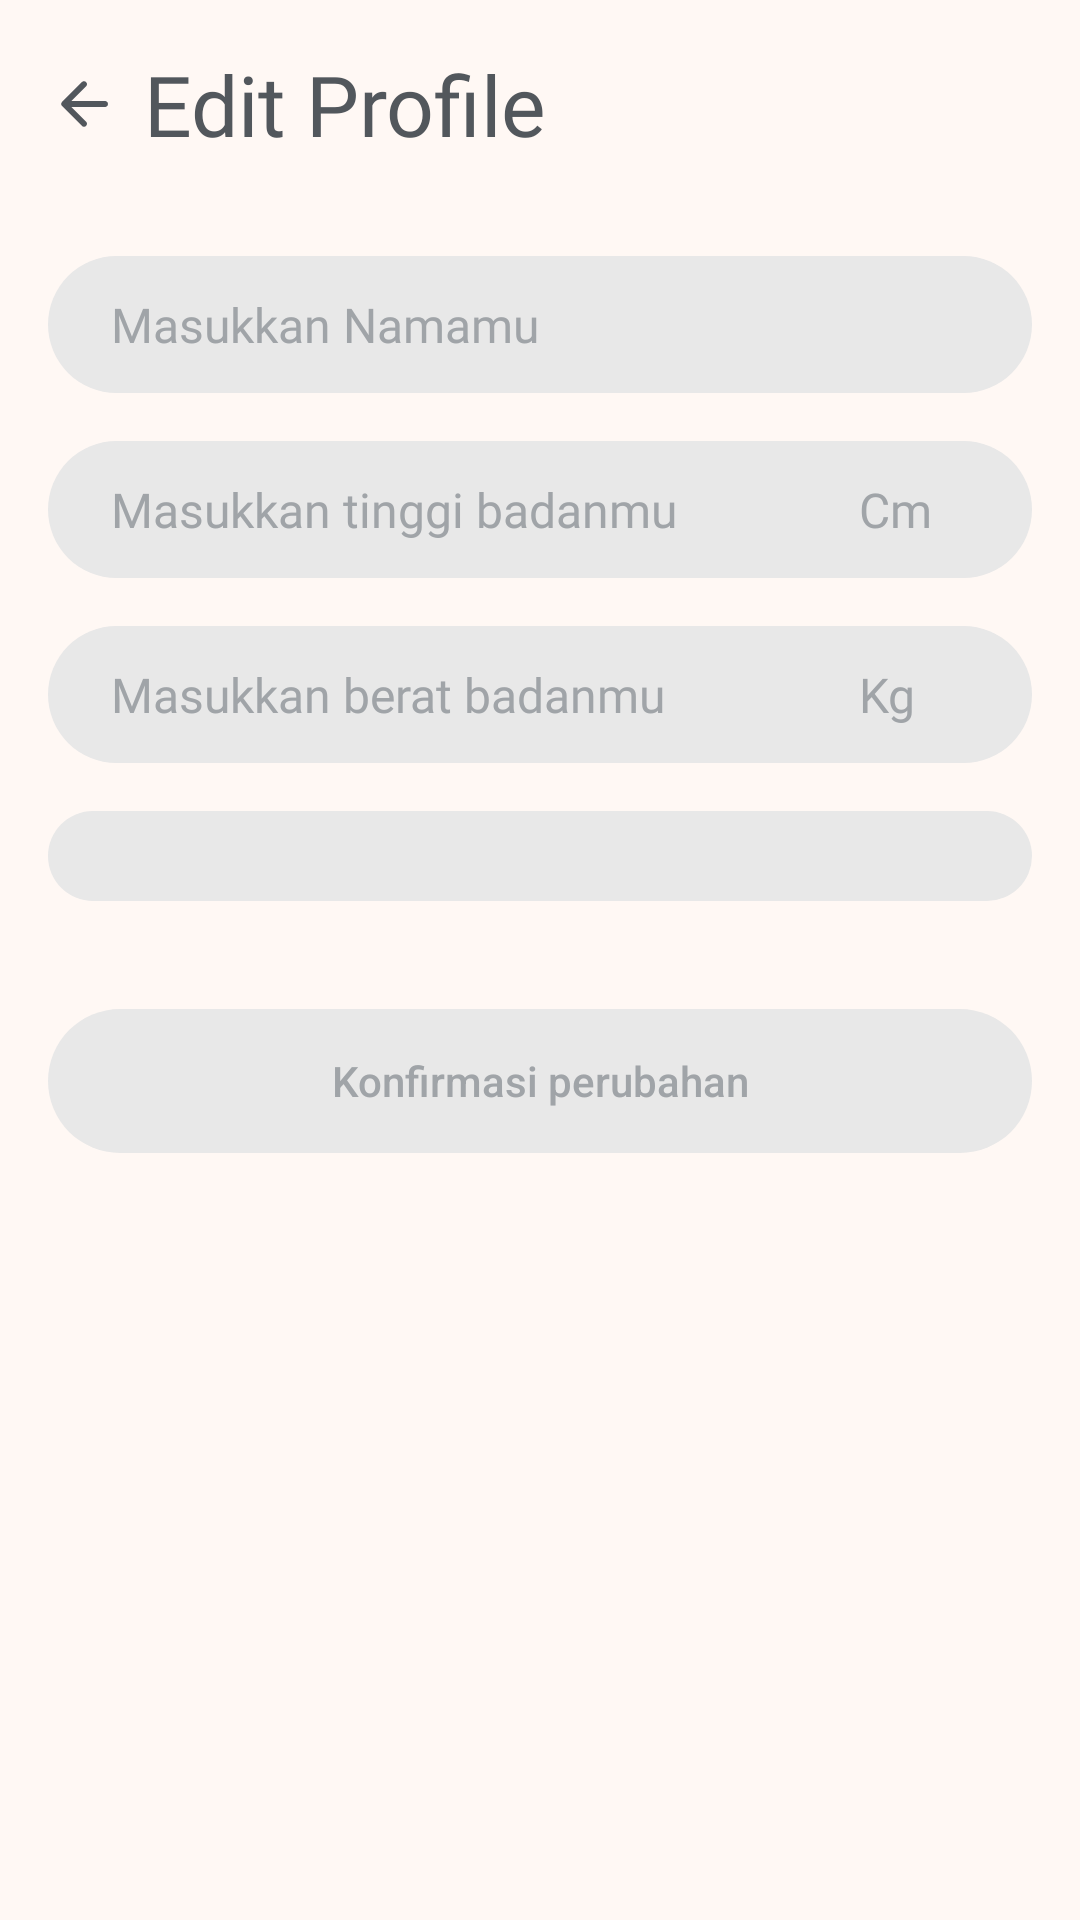

Icons on this 1080 x 1920 Android screen, each with the point to tap as (x=x, y=y):
arrow back: (x=84, y=104)
